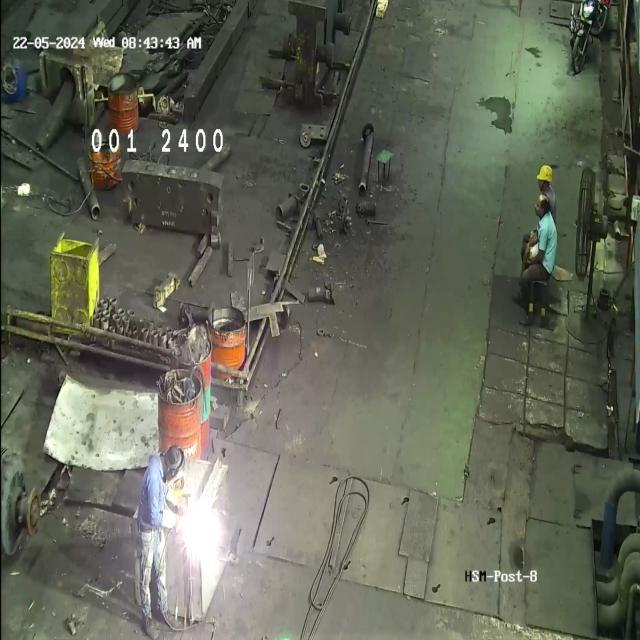no-safety-helmet: (533, 189, 552, 219)
person: (514, 192, 560, 328)
safety-glove: (160, 505, 192, 546), (163, 486, 194, 517)
safety-helmet: (535, 159, 556, 193), (524, 239, 543, 269)
safety-shoes: (156, 599, 183, 635), (138, 605, 161, 640), (509, 290, 529, 308), (519, 310, 535, 328)
welding-glass: (160, 443, 188, 496)
